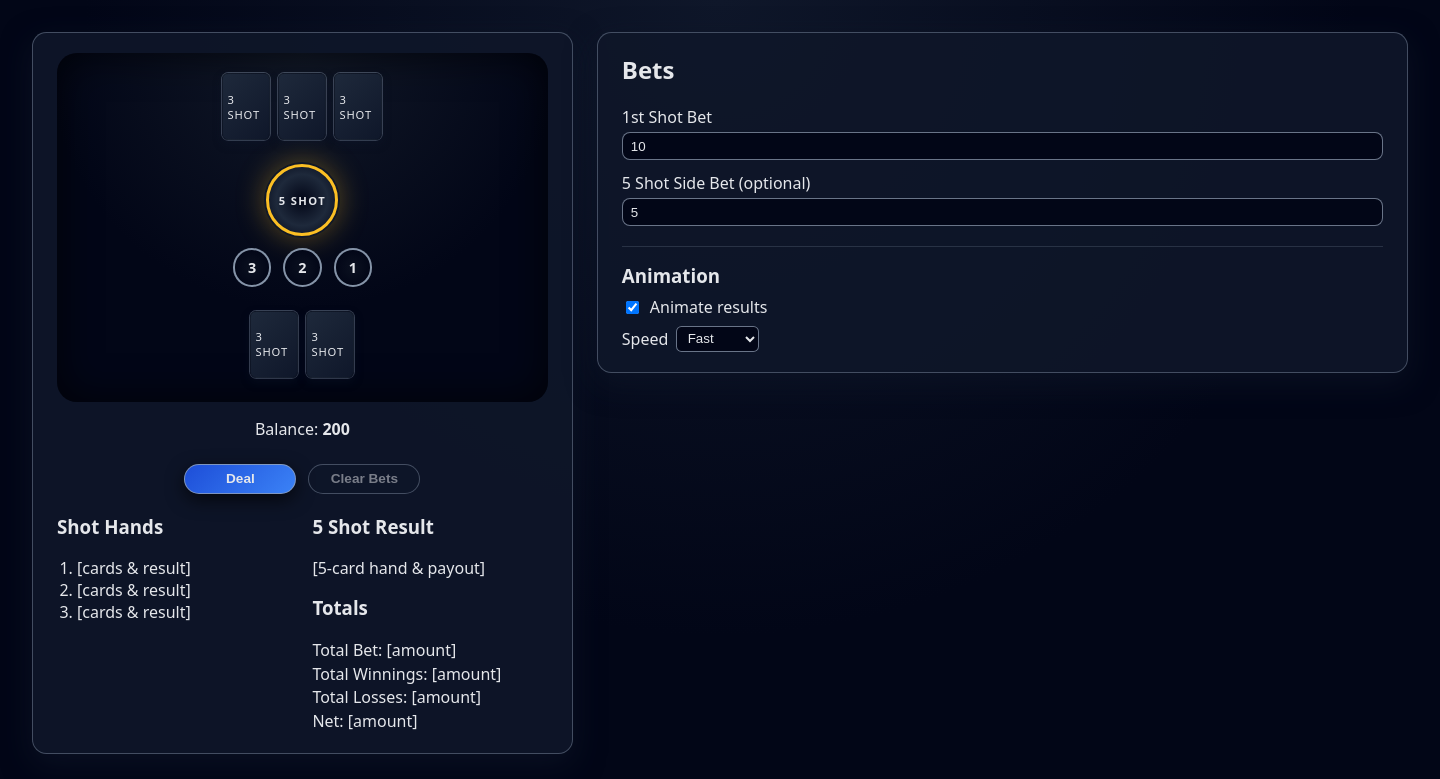
Test: GameLayout balance management › decreases the balance immediately after dealing
Expected: the element named "player balance" reads "Balance: 200", [255, 418, 350, 440]
Note: Default 1st Shot bet is 10, default 5 Shot bet is 5.
Click the button "Deal". click: point(240, 479)
box: [184, 464, 296, 494]
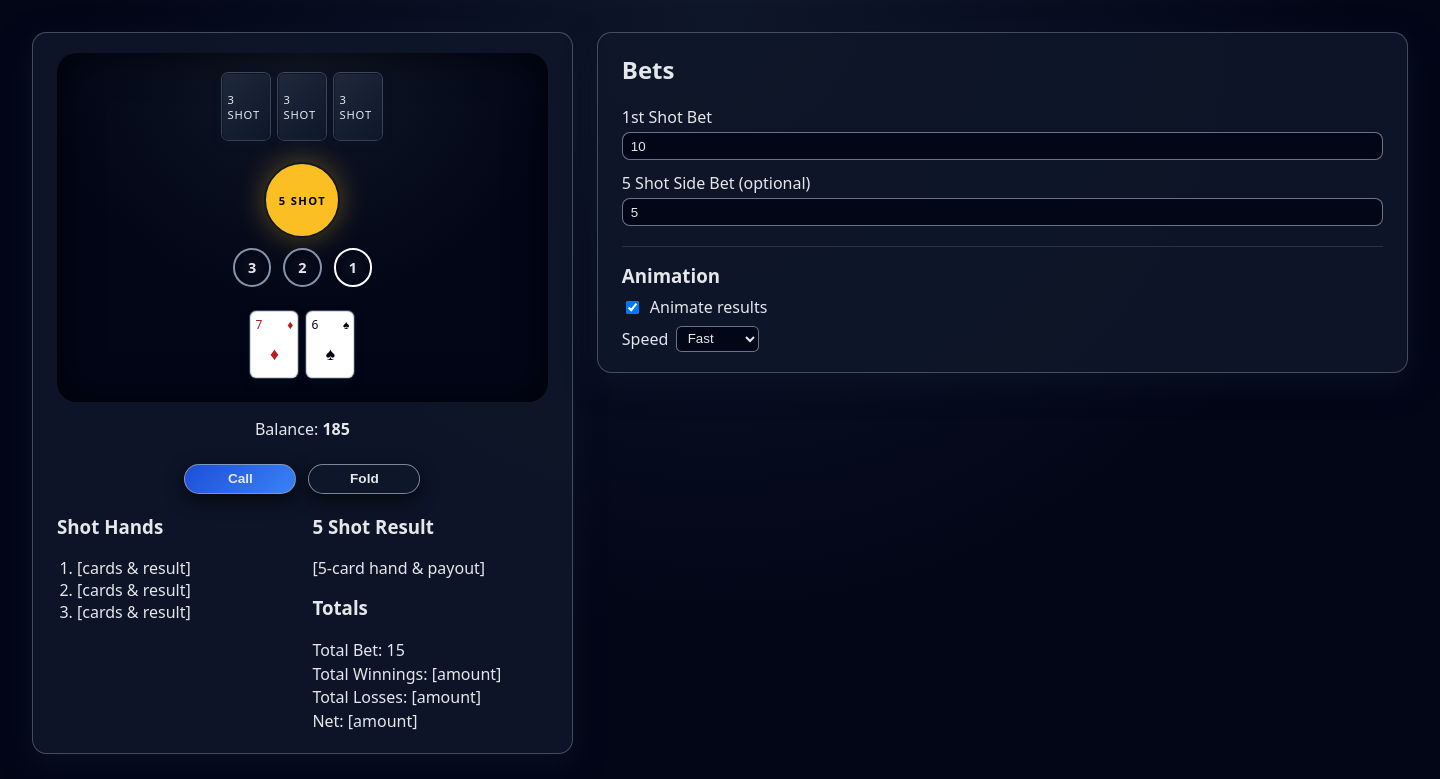
Expected: the element named "player balance" reads "Balance: 185", [255, 418, 350, 440]
